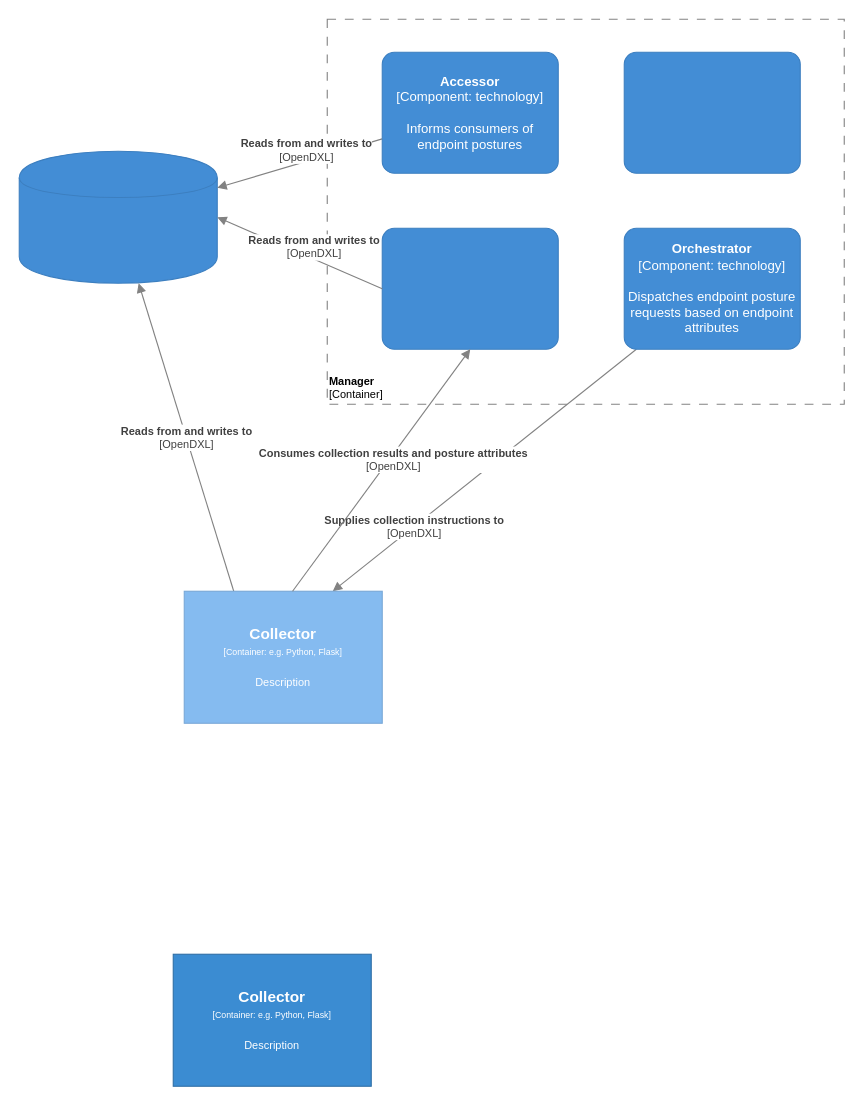
Image size: 864x1106. Some labels were removed from this diagram. The centre of each missing label's shape, as x and y in pixels:
Aggregator [Component: technology] Aggregates endpoint postures: pixel 469 288
Health [Component: technology] Endpoint health and activity telemetry: pixel 711 112
Repository [Container: e.g. PostgreSQL] Description: pixel 117 216
